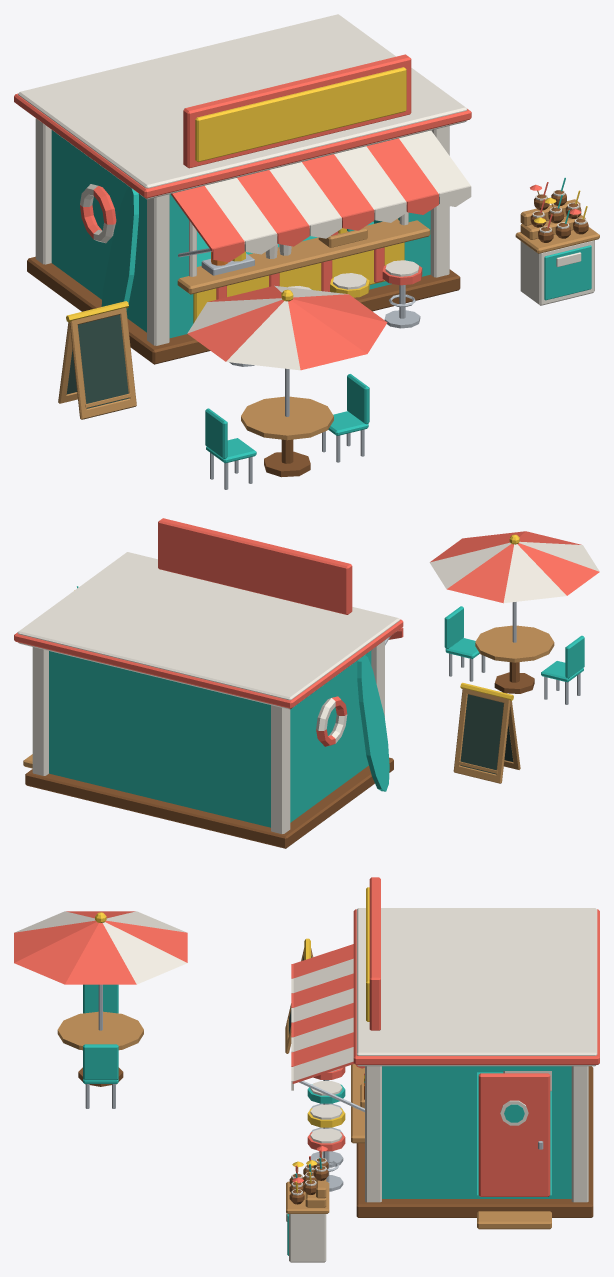
Rendered from snack-kiosk.glb.
The picture shows the model from 3 angles, top to bottom: view 1: azimuth 30°, elevation 25°; view 2: azimuth 150°, elevation 25°; view 3: azimuth 270°, elevation 25°; orthographic projection. The views are drawn at different scales.
Parts seen in each view (by area): view 1: SnackBar_Kiosk_Body, Awning, Parasol, Sign, Table_Parasol_Body, CoconutCup_Display_Body, MenuBoard_Face, MenuBoard_Body, BarStool_4_Body, BarStool_3_Body; view 2: SnackBar_Kiosk_Body, Parasol, Table_Parasol_Body, MenuBoard_Face, MenuBoard_Body; view 3: SnackBar_Kiosk_Body, Parasol, Door, Awning, Table_Parasol_Body, CoconutCup_Display_Body, BarStool_4_Body, BarStool_3_Body, BarStool_2_Body, Sign.
Boxes of the visible parts, bbox=[...] form: SnackBar_Kiosk_Body: bbox=[14, 14, 471, 364]; Awning: bbox=[171, 130, 471, 262]; Parasol: bbox=[187, 285, 387, 416]; Sign: bbox=[195, 67, 406, 162]; Table_Parasol_Body: bbox=[205, 374, 369, 489]; CoconutCup_Display_Body: bbox=[515, 177, 599, 305]; MenuBoard_Face: bbox=[66, 314, 129, 408]; MenuBoard_Body: bbox=[58, 301, 136, 419]; BarStool_4_Body: bbox=[382, 260, 422, 328]; BarStool_3_Body: bbox=[330, 273, 369, 297]; SnackBar_Kiosk_Body: bbox=[14, 518, 403, 848]; Parasol: bbox=[429, 531, 599, 642]; Table_Parasol_Body: bbox=[444, 606, 584, 704]; MenuBoard_Face: bbox=[460, 694, 513, 774]; MenuBoard_Body: bbox=[453, 682, 520, 783]; SnackBar_Kiosk_Body: bbox=[299, 877, 599, 1229]; Parasol: bbox=[14, 911, 187, 1030]; Door: bbox=[478, 1073, 550, 1196]; Awning: bbox=[291, 944, 353, 1090]; Table_Parasol_Body: bbox=[57, 984, 143, 1108]; CoconutCup_Display_Body: bbox=[286, 1146, 329, 1262]; BarStool_4_Body: bbox=[307, 1128, 345, 1191]; BarStool_3_Body: bbox=[307, 1104, 345, 1167]; BarStool_2_Body: bbox=[307, 1081, 345, 1133]; Sign: bbox=[366, 887, 369, 1021].
Size of the model in its own units: 29.8 by 13 by 31.17.
